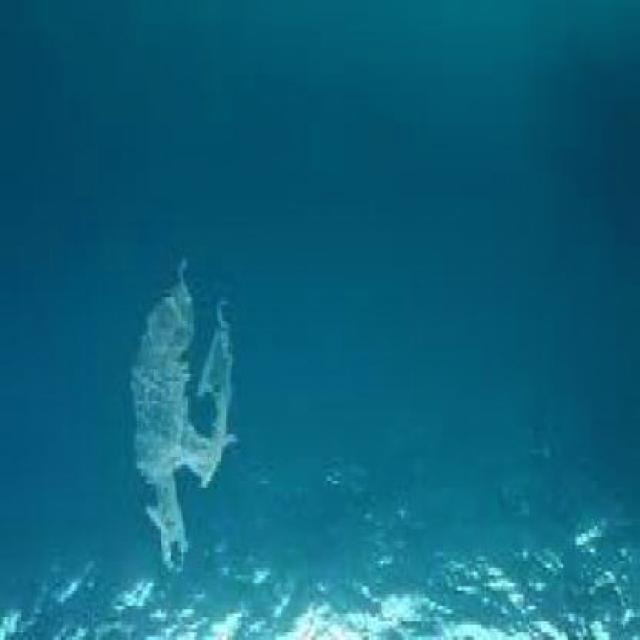pbag: (128, 255, 235, 576)
